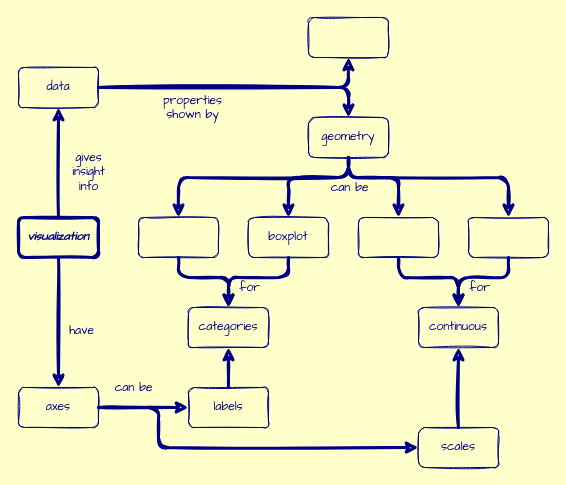
The diagram is 566 pixels wide and 485 high, and some of its shapes have lost their labels. Each missing label, with the centre of its shape:
"color" belongs at point (348, 37).
"histogram" belongs at point (178, 237).
"line" belongs at point (398, 237).
"scatter" belongs at point (508, 237).
